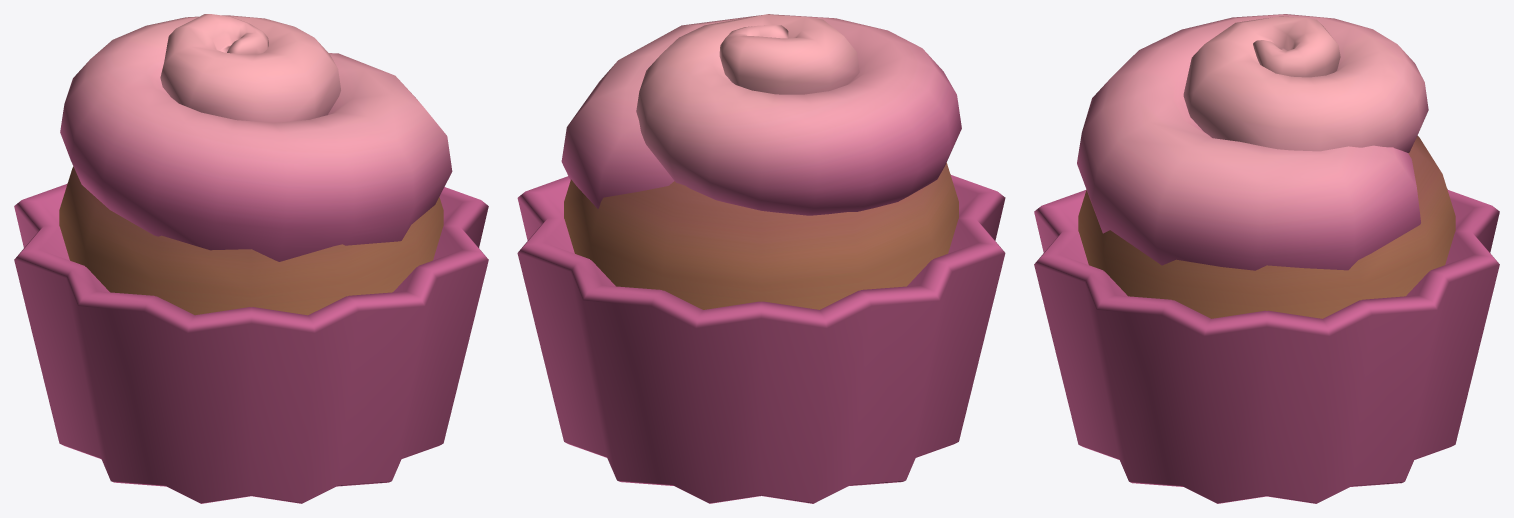
Rendered from Ice Cream.fbx.
3 renders of one model, left to right at view 1: azimuth 30°, elevation 25°; view 2: azimuth 150°, elevation 25°; view 3: azimuth 270°, elevation 25°, orthographic. The views are drawn at different scales.
Visible parts, largest first — view 1: Ice Cream; view 2: Ice Cream; view 3: Ice Cream.
Part boxes in pixels (bbox=[...]): Ice Cream: bbox=[14, 14, 488, 503]; Ice Cream: bbox=[517, 14, 1005, 503]; Ice Cream: bbox=[1034, 14, 1499, 503].
Size of the model in its own units: 27.32 by 25.07 by 27.32.
